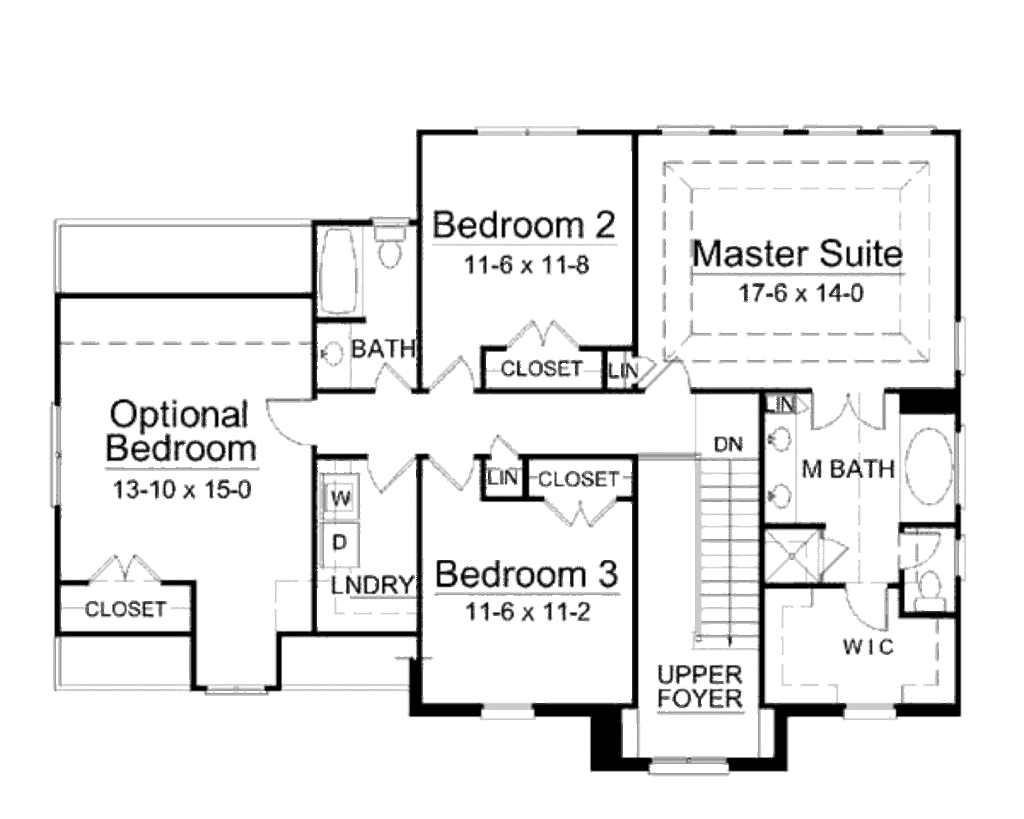door: (808, 391, 892, 435), (264, 395, 320, 450), (842, 578, 894, 632), (86, 551, 159, 589), (542, 498, 617, 534), (511, 319, 582, 357), (429, 350, 480, 399), (642, 356, 700, 398), (364, 453, 416, 498), (431, 453, 476, 495), (897, 529, 942, 569), (370, 364, 415, 398), (820, 534, 851, 576)
large_sink: (368, 223, 415, 275), (907, 567, 951, 614)
small_sink: (760, 412, 799, 520), (316, 318, 354, 395)
stairs: (687, 434, 761, 642)
tub: (897, 417, 956, 527), (314, 220, 367, 322)
window: (473, 122, 587, 141), (648, 755, 730, 778), (478, 700, 548, 726), (48, 398, 64, 511), (729, 116, 789, 140), (202, 679, 271, 698), (653, 118, 720, 137), (842, 700, 898, 721), (877, 122, 934, 141), (953, 318, 967, 384), (802, 123, 861, 137)
